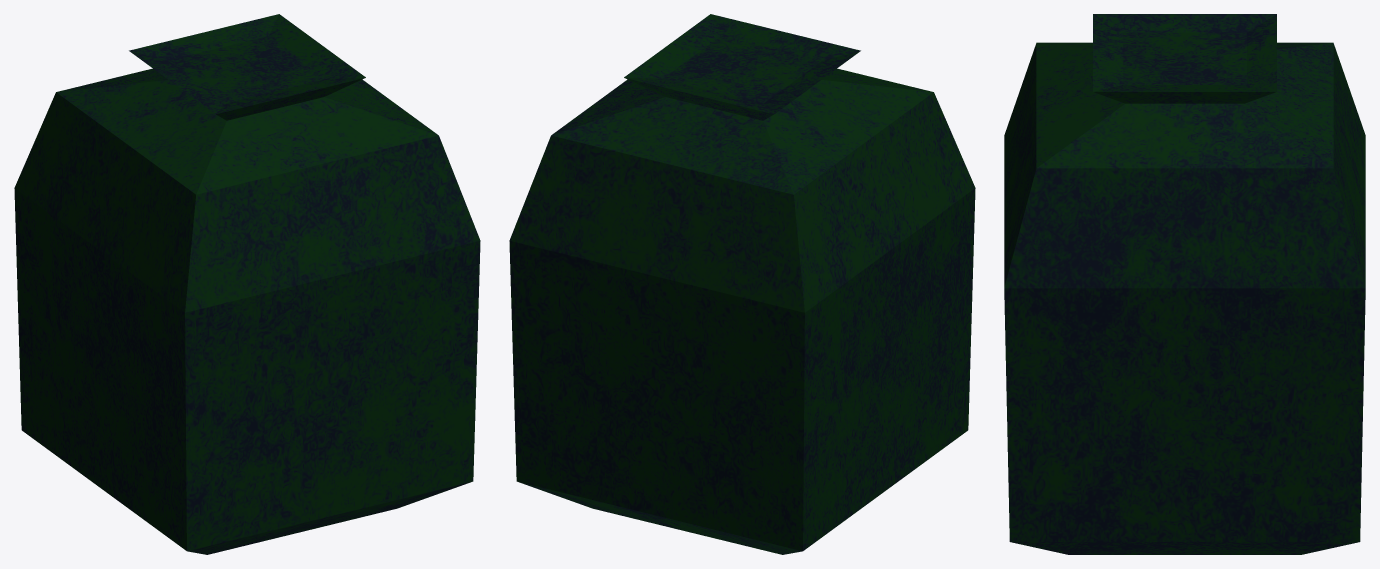
The model's file is bag_na_trash.fbx.
3 views of the same model, side by side, from view 1: azimuth 30°, elevation 25°; view 2: azimuth 150°, elevation 25°; view 3: azimuth 270°, elevation 25° (orthographic). The views are drawn at different scales.
Parts seen in each view (by area): view 1: pytel na smeti; view 2: pytel na smeti; view 3: pytel na smeti.
Part boxes in pixels (x1,y1,x2,y2): pytel na smeti: (14, 14, 480, 554); pytel na smeti: (509, 14, 975, 554); pytel na smeti: (1004, 14, 1365, 554).
Size of the model in its own units: 38.18 by 52.78 by 38.18.
